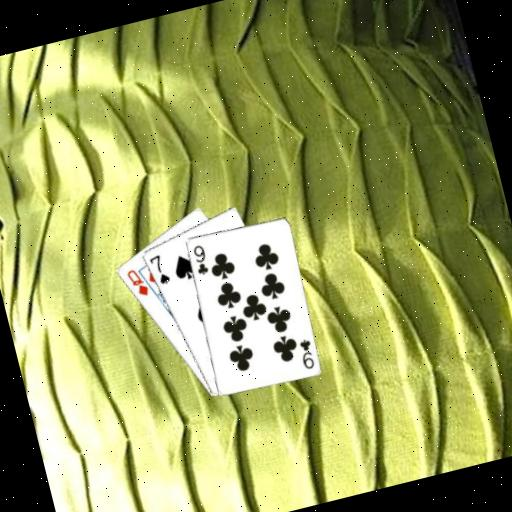7S: (145, 251, 172, 289)
9C: (294, 335, 318, 373), (188, 241, 211, 278)
QD: (123, 264, 152, 302)
